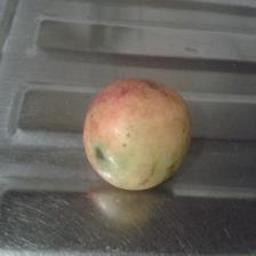Mango Semifresh: (77, 75, 201, 193)
